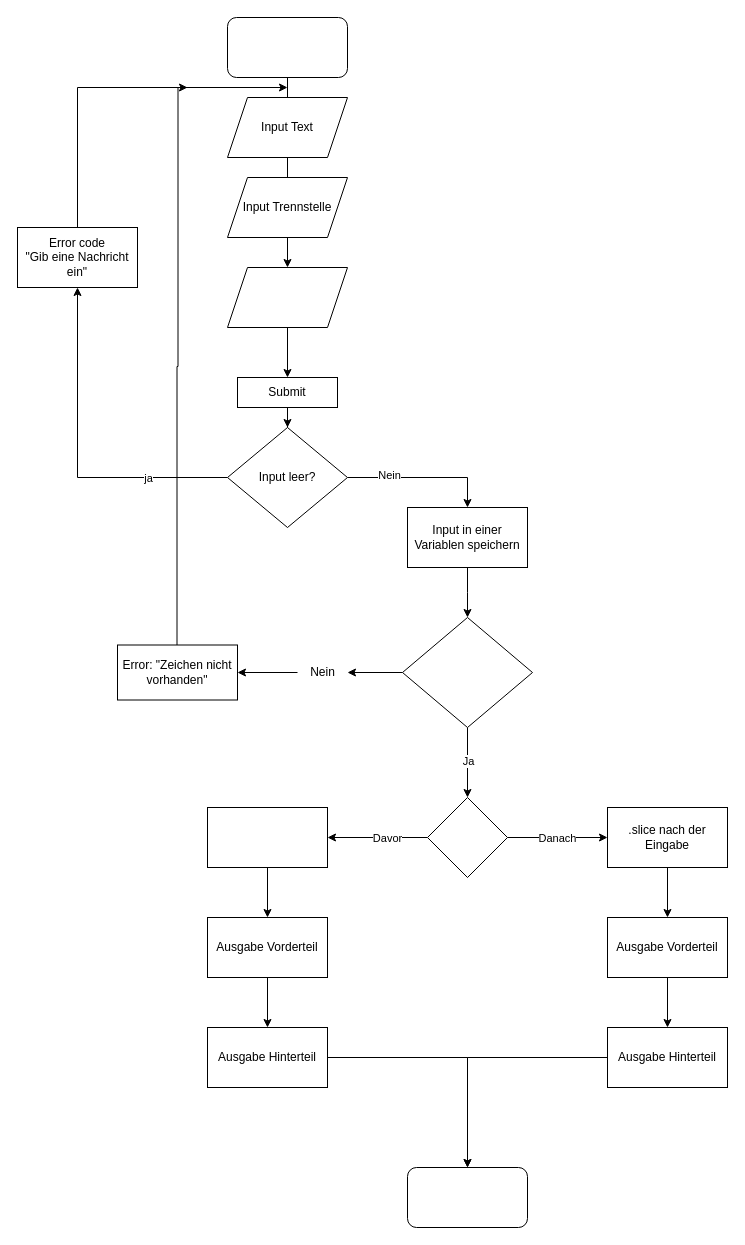
Image size: 745x1245. Some labels were removed from this diagram. The shapes that lost their labels are listed below. From the top down, each one's centre as x and y in pixels, then its label:
point 287,47: Start
point 287,297: Input Vorher Nachher
point 467,672: Ist Zeichen in Input erhalten?
point 267,837: .slice vor der Eingabe
point 467,837: Davor? Danach?
point 467,1197: Ende
